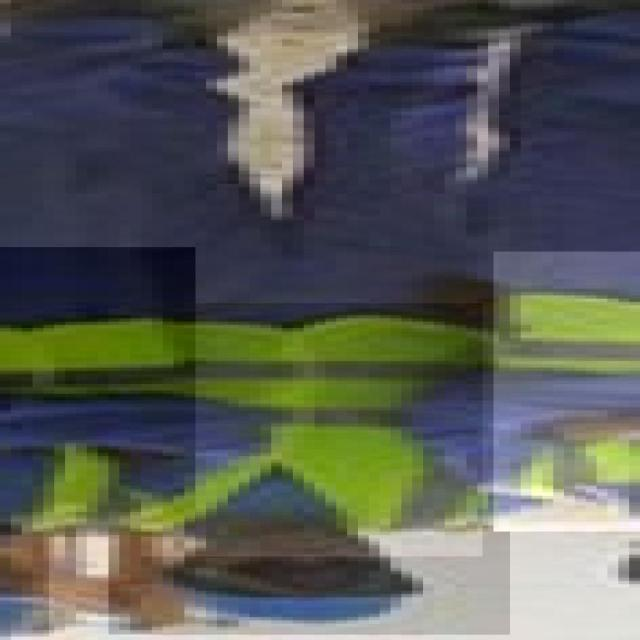Helmet: (108, 525, 510, 635), (0, 521, 49, 636)
Safety Vest: (141, 303, 483, 557), (0, 247, 196, 537), (493, 251, 640, 531)
